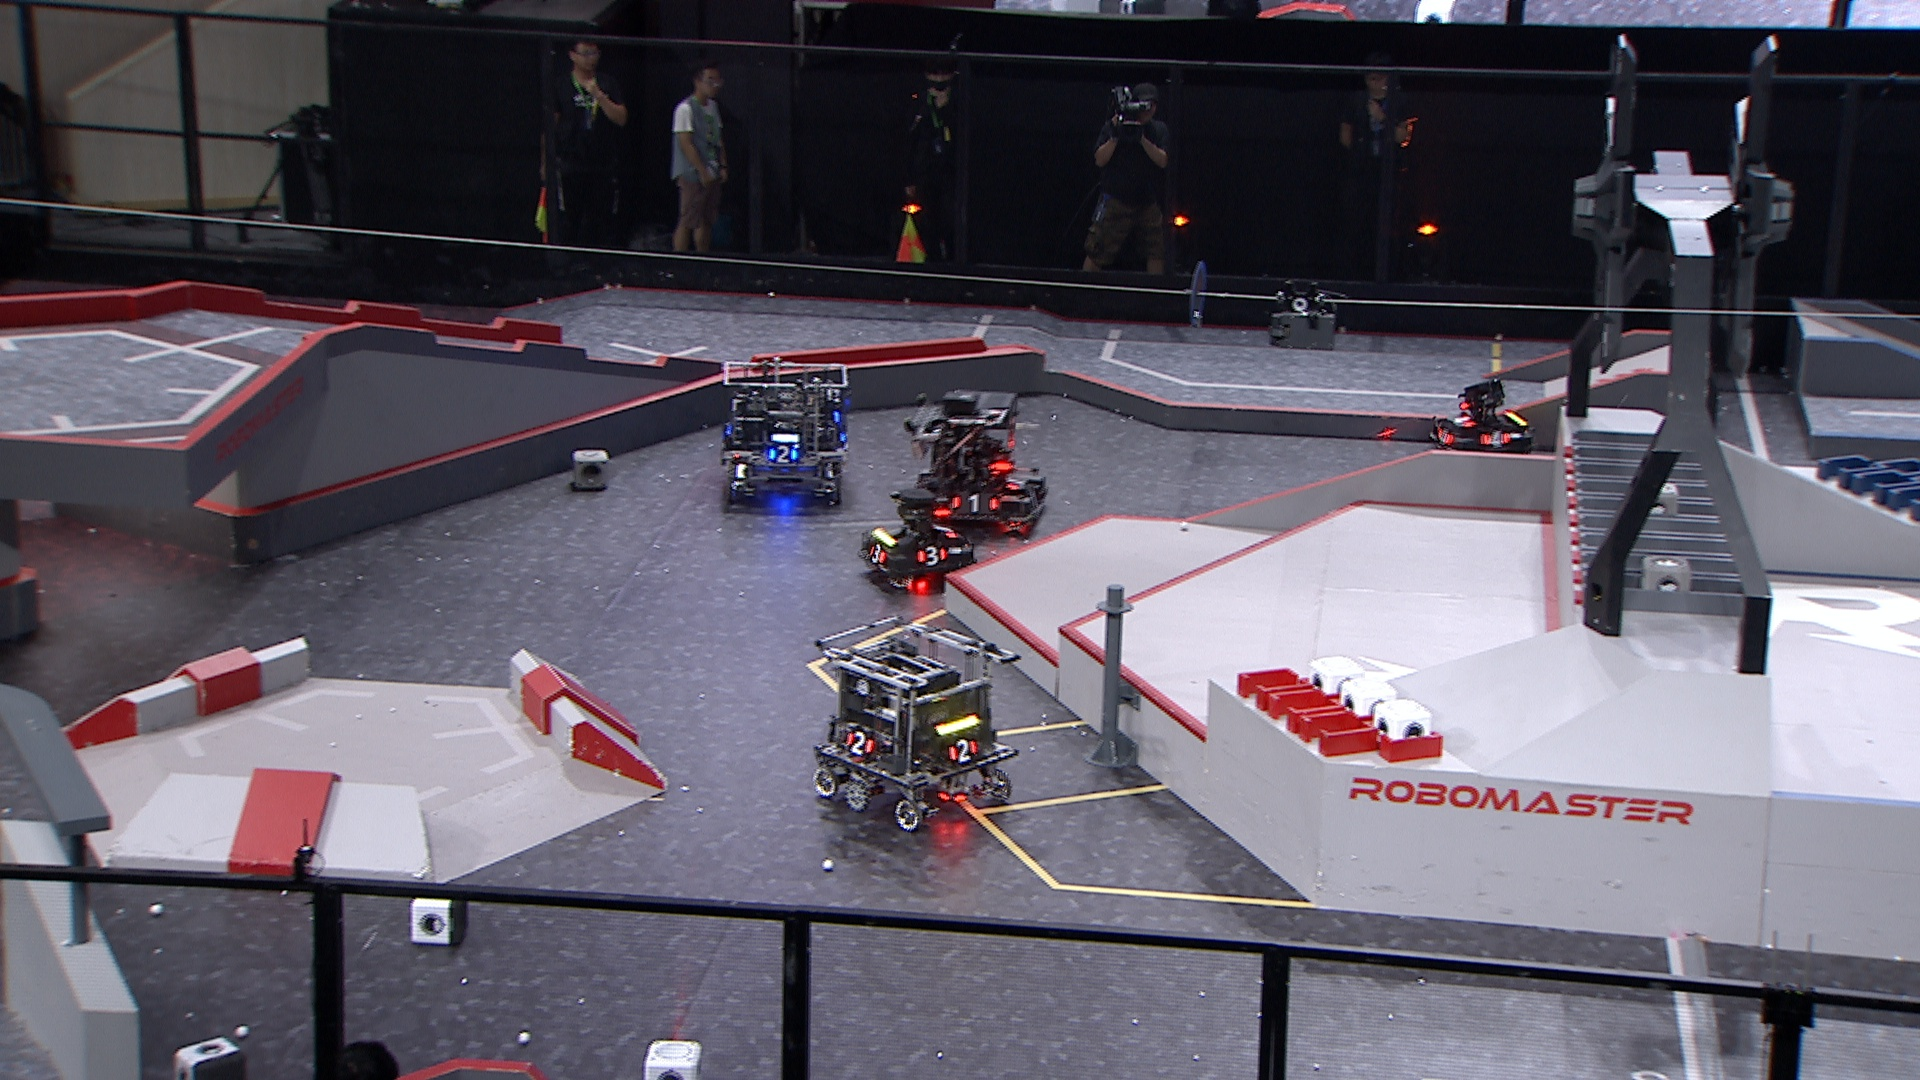armor: (953, 491, 1004, 512), (844, 731, 872, 760), (945, 738, 978, 761), (1002, 472, 1027, 493), (1481, 429, 1509, 447), (770, 444, 798, 462), (932, 520, 955, 541), (920, 546, 945, 564), (1451, 414, 1477, 431), (1433, 429, 1455, 448), (869, 541, 884, 564)
car: (814, 617, 1021, 831), (893, 386, 1051, 541), (717, 352, 849, 506), (860, 485, 975, 589), (1424, 380, 1534, 462)
